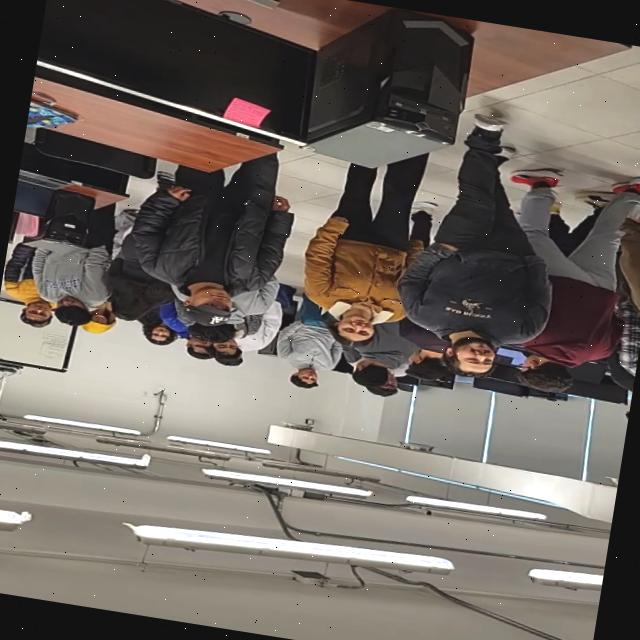Persona: (385, 108, 579, 390), (475, 147, 640, 406), (115, 140, 305, 341), (290, 134, 448, 360), (23, 193, 134, 334), (274, 283, 386, 397), (178, 280, 298, 373), (599, 154, 640, 413), (324, 304, 438, 393), (170, 262, 276, 351), (0, 244, 74, 333), (92, 254, 176, 329), (82, 304, 128, 342), (142, 314, 176, 348)
